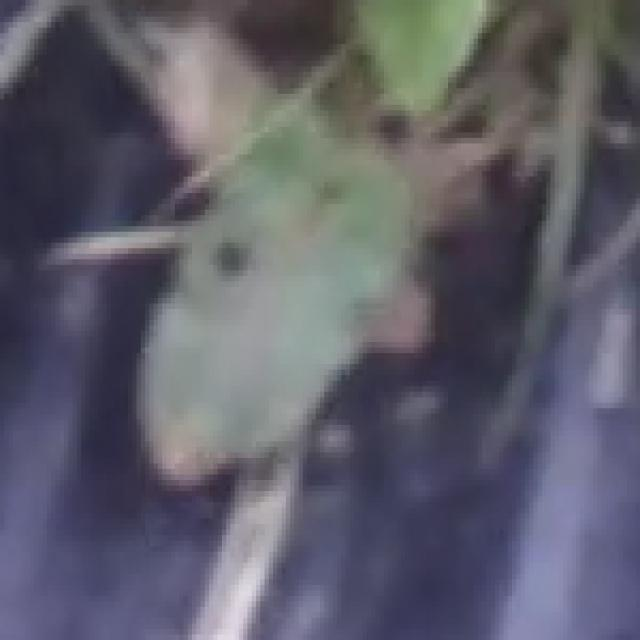organic waste: (82, 7, 494, 479)
